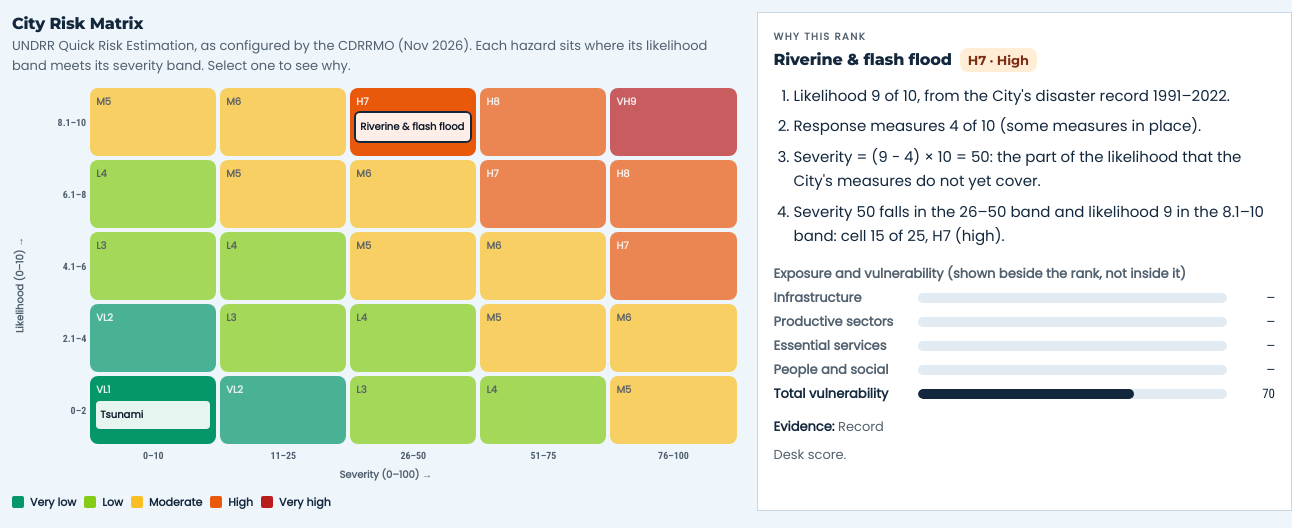
it: City Risk Matrix › places each hazard in its QRE cell, not all in the top corner, and explains the rank
Check: the cell "H7 Riverine & flash flood" is shown, box [350,88,476,156]
Check: the cell "VL1 Tsunami" is shown, box [90,376,216,444]
Click the button "Tsunami" at (153, 415), box [96,401,210,429]
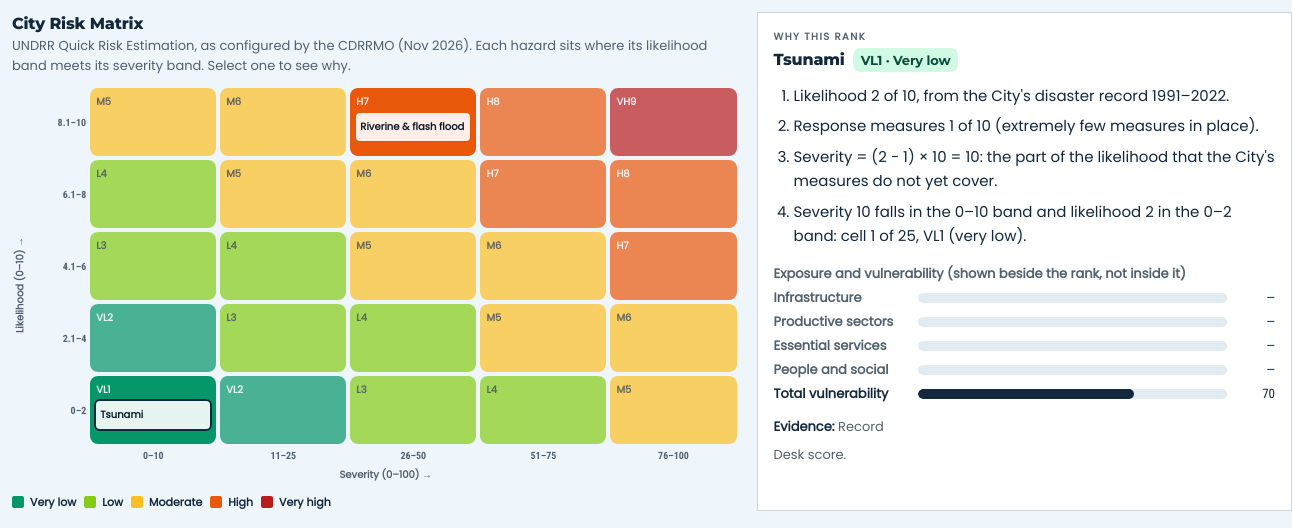
Check: the list item "(2 − 1) × 10 = 10" is shown, box [794,146,1275,191]
